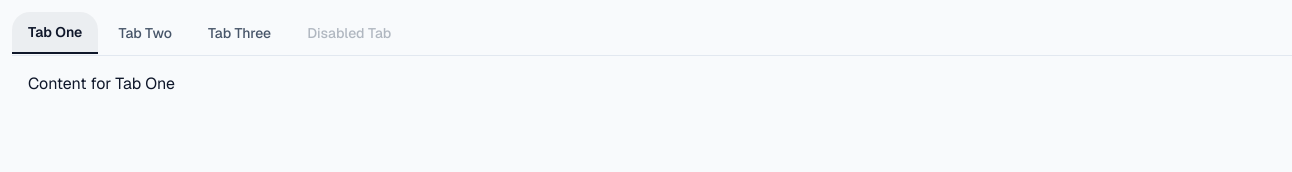
AccessibleTabs › switches tabs on mouse click
Step 1. Click the tab with test id "tab-tab2" → coordinates (145, 33), box [102,13,188,53]
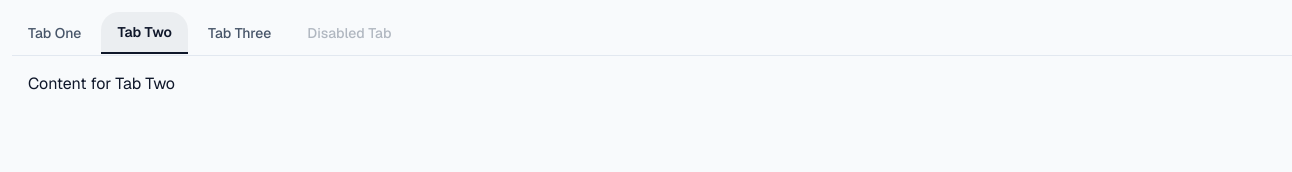
Expected: the panel reads "Content for Tab Two", [28,73,175,94]
